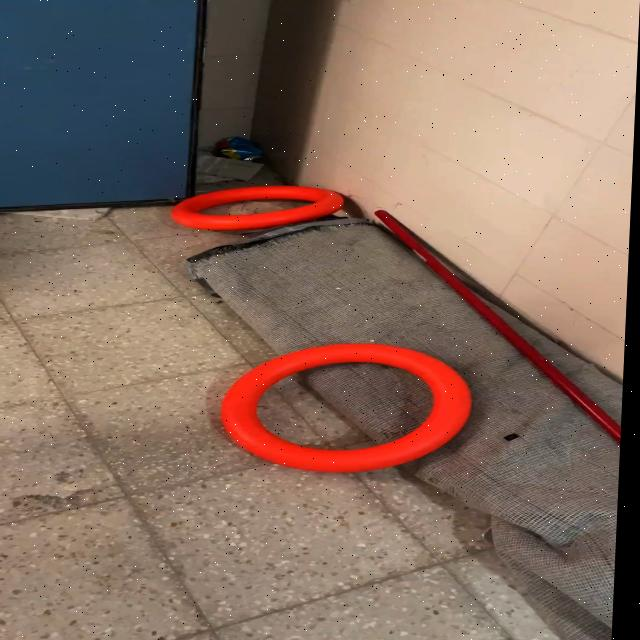note: (219, 342, 481, 475), (169, 184, 349, 233)
